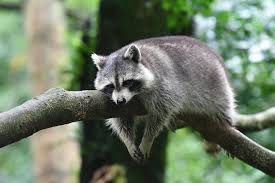raccoon: (89, 43, 232, 125)
